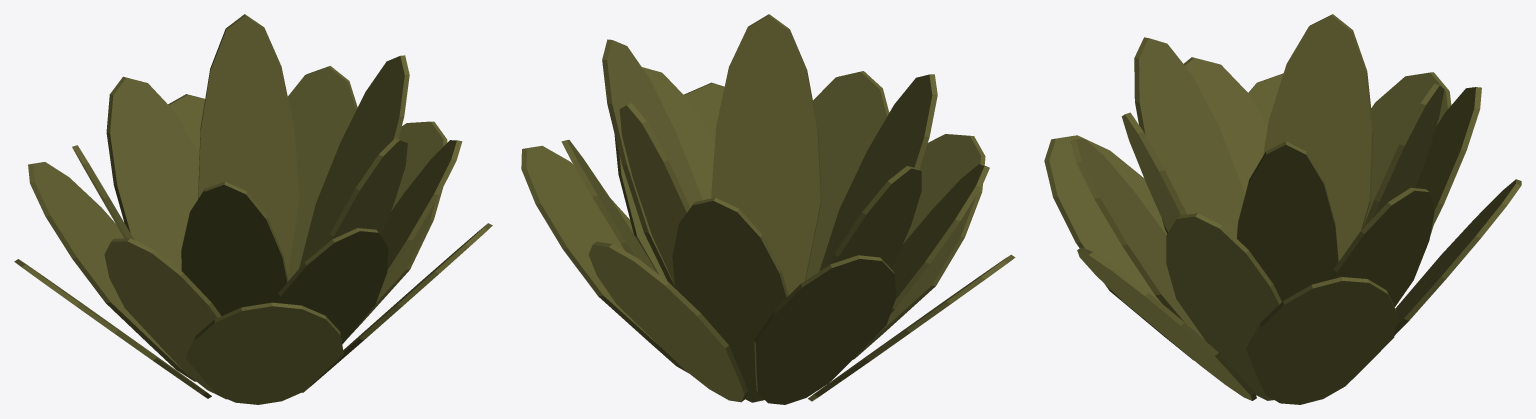
File: Low Bush.fbx
3 renders of one model, left to right at view 1: azimuth 30°, elevation 25°; view 2: azimuth 150°, elevation 25°; view 3: azimuth 270°, elevation 25°, orthographic. The views are drawn at different scales.
Parts seen in each view (by area): view 1: Circle; view 2: Circle; view 3: Circle.
Boxes of the visible parts, x1=… form: Circle: x1=14, y1=14, x2=492, y2=404; Circle: x1=521, y1=14, x2=1015, y2=404; Circle: x1=1044, y1=14, x2=1521, y2=404.
Size of the model in its own units: 327 by 217 by 285.
